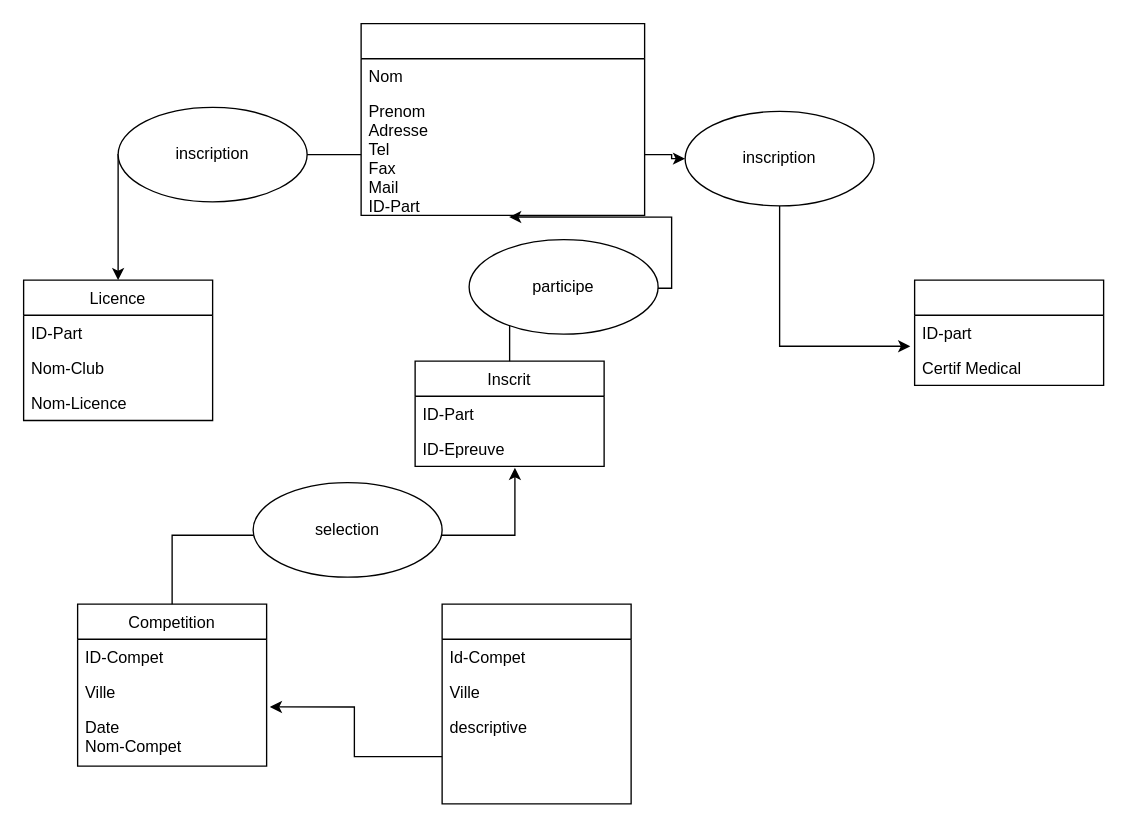
Some shapes in this 1127 by 832 pixel diagram are drawn without their labels. The box of each missing label's shape, as (x1, y1, x2, y2) in pixels:
Amateur: (913, 279, 1104, 385)
Epreuve: (441, 603, 631, 804)
Fichier-inscrit: (360, 22, 645, 215)
